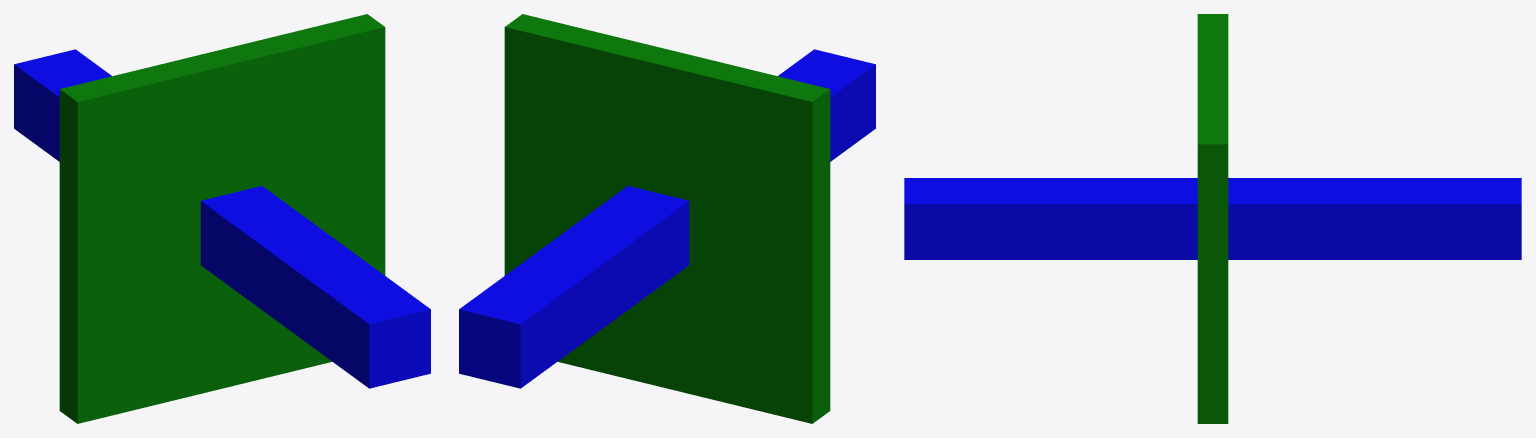
Rendered from runner.component.test.glb.
The picture shows the model from 3 angles, left to right: view 1: azimuth 30°, elevation 25°; view 2: azimuth 150°, elevation 25°; view 3: azimuth 270°, elevation 25°; orthographic projection. The views are drawn at different scales.
Visible parts, largest first — view 1: g, ./myComponent_myComponent; view 2: g, ./myComponent_myComponent; view 3: ./myComponent_myComponent, g.
Boxes of the visible parts, left/top/right/bottom form: g: left=59, top=14, right=385, bottom=423; ./myComponent_myComponent: left=14, top=49, right=430, bottom=388; g: left=504, top=14, right=830, bottom=423; ./myComponent_myComponent: left=459, top=49, right=875, bottom=388; ./myComponent_myComponent: left=904, top=178, right=1521, bottom=259; g: left=1197, top=14, right=1228, bottom=423.
Size of the model in its own units: 50 by 50 by 100.
